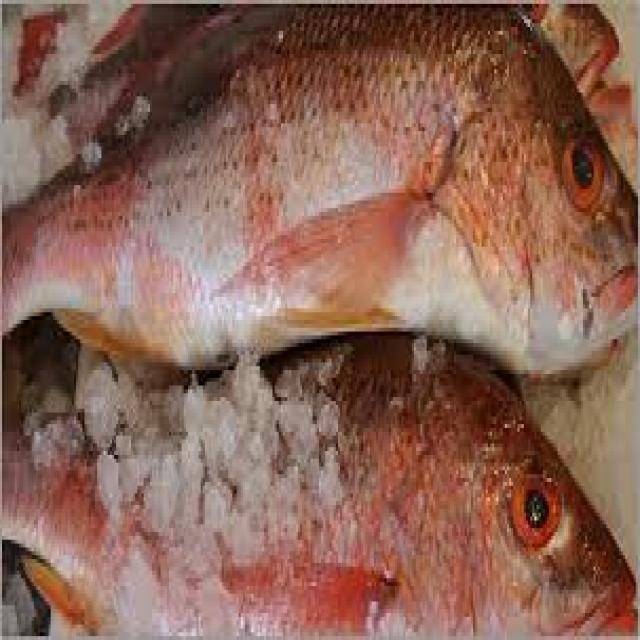northern-red-snapper: (0, 0, 640, 399), (0, 316, 640, 640)
